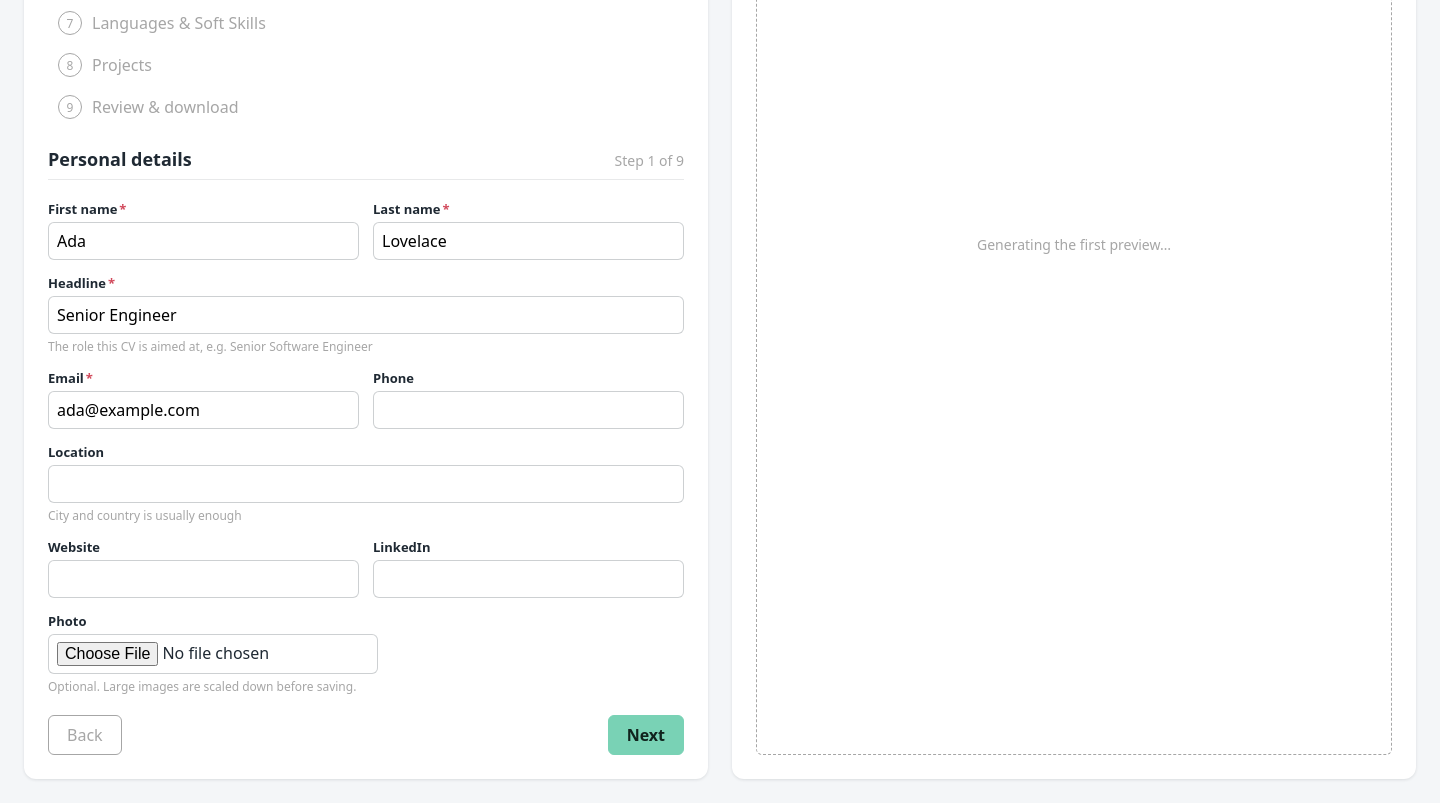
Test case: validation gating › advances once the step is valid
(page scrolled)
Click the button "Next" at (646, 735), box [608,715,684,755]
(page scrolled)
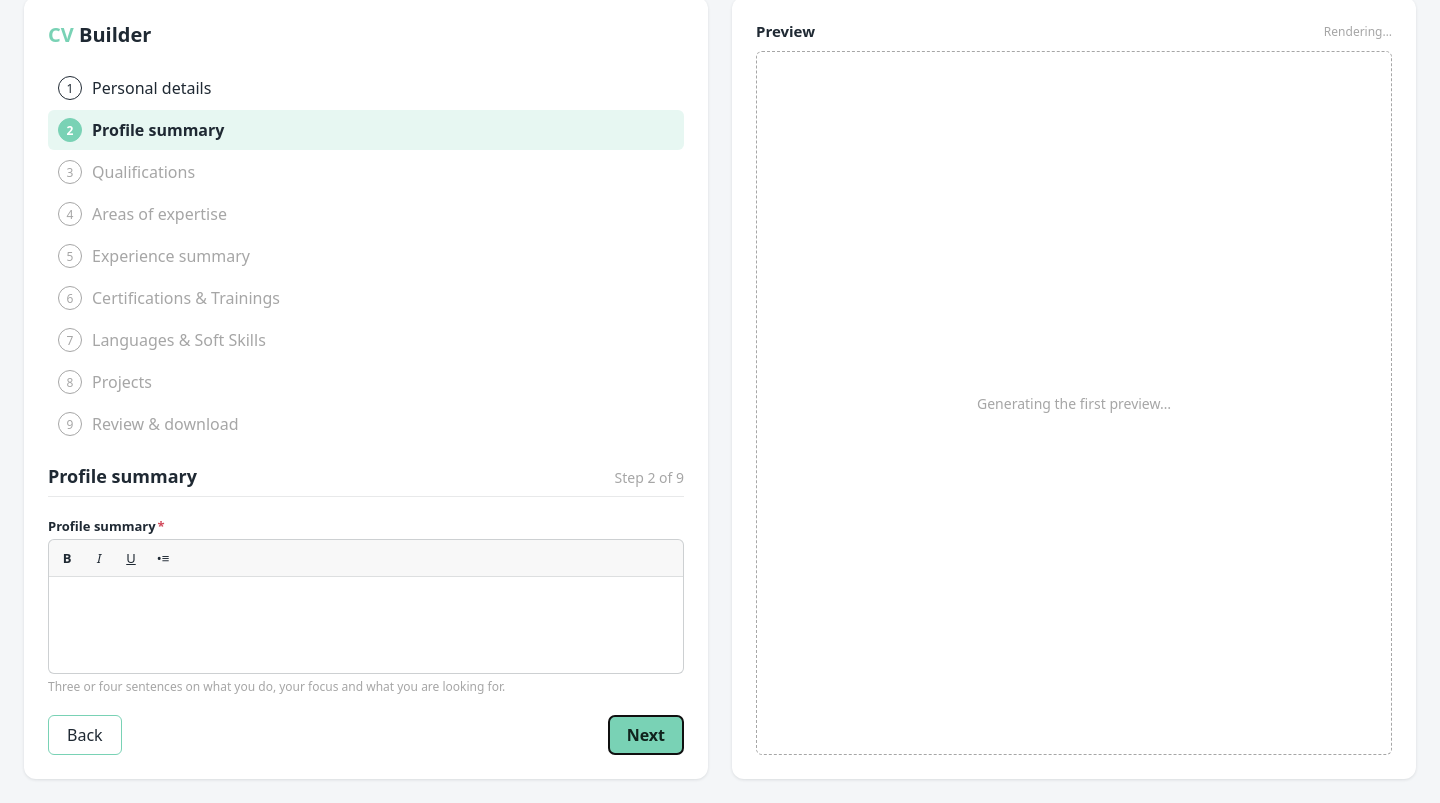
Expected: the heading "Profile summary" is shown, [48,464,197,488]
